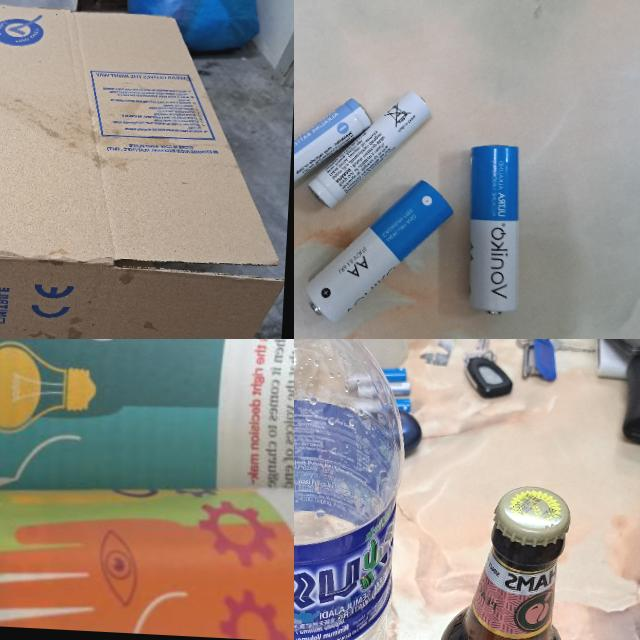bateria: (304, 172, 454, 325), (306, 85, 431, 212), (460, 142, 529, 315), (294, 91, 373, 211)
garrafa de vidro: (418, 479, 575, 640)
garrafa plástica: (294, 339, 412, 640)
papel: (0, 339, 294, 640)
papelão: (0, 0, 294, 339)
sacola plástica: (125, 0, 268, 49)
